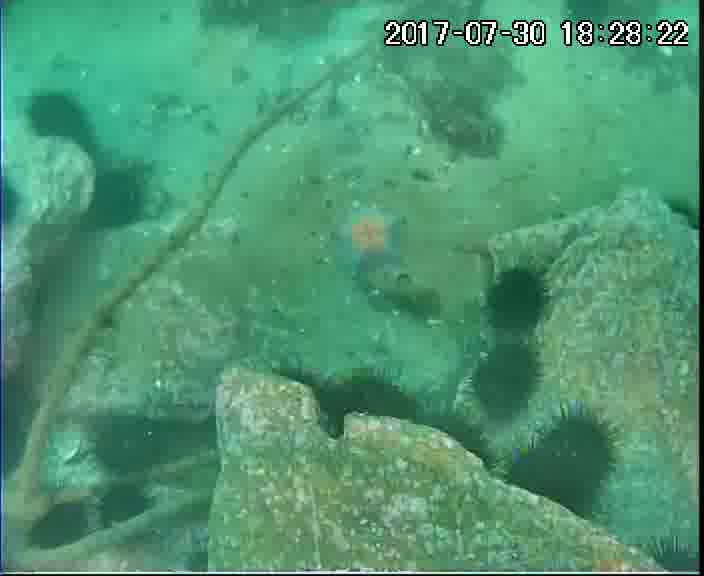echinus: (508, 433, 599, 521), (539, 404, 622, 486), (472, 342, 548, 426), (328, 366, 415, 434), (485, 263, 551, 339), (93, 412, 169, 475), (423, 412, 503, 470), (30, 92, 100, 154), (88, 169, 149, 230), (26, 498, 94, 551), (643, 531, 704, 576), (99, 479, 149, 531)
starfish: (332, 202, 407, 282)
